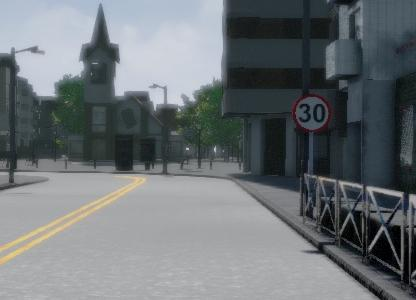Speed_30: (290, 92, 333, 134)
